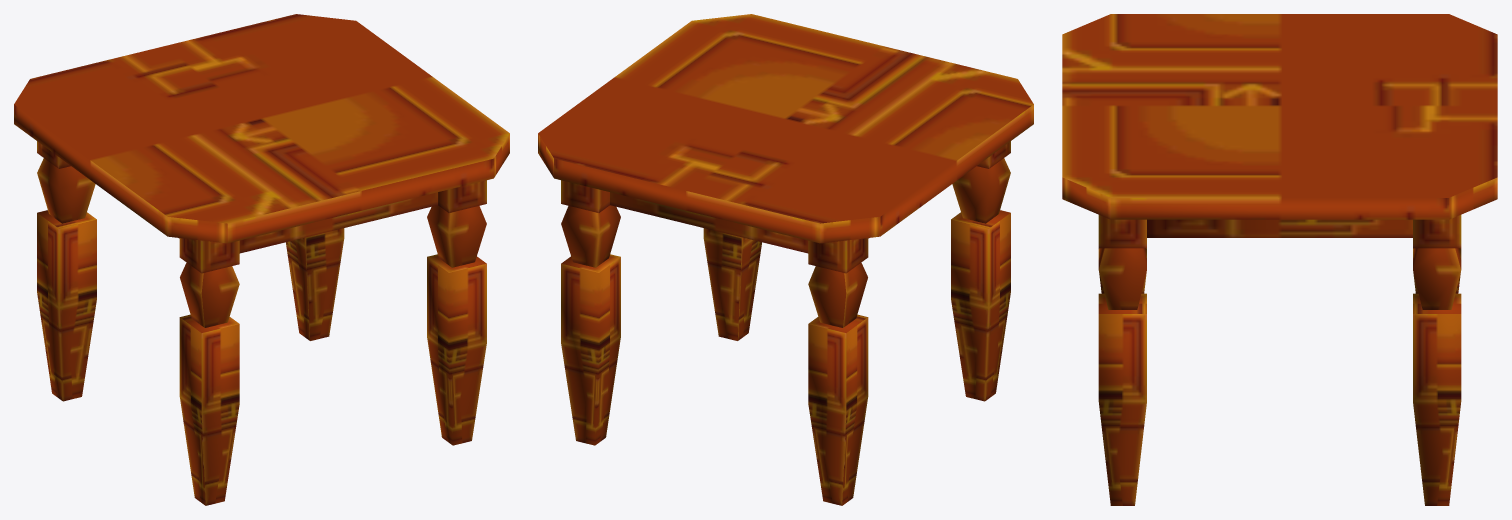
The model's file is rmk_asi_tableS.dae.
The picture shows the model from 3 angles, left to right: view 1: azimuth 30°, elevation 25°; view 2: azimuth 150°, elevation 25°; view 3: azimuth 270°, elevation 25°; orthographic projection. The views are drawn at different scales.
Parts seen in each view (by area): view 1: rmk_asi_tableS; view 2: rmk_asi_tableS; view 3: rmk_asi_tableS.
Boxes of the visible parts, box(x1,y1,x2,y2) form: rmk_asi_tableS: box(14, 14, 509, 505); rmk_asi_tableS: box(538, 14, 1033, 505); rmk_asi_tableS: box(1062, 14, 1497, 505).
Bounding box in the file's own units: 28.8 × 24 × 28.8.
Materials: 1 (1 with a texture image).
